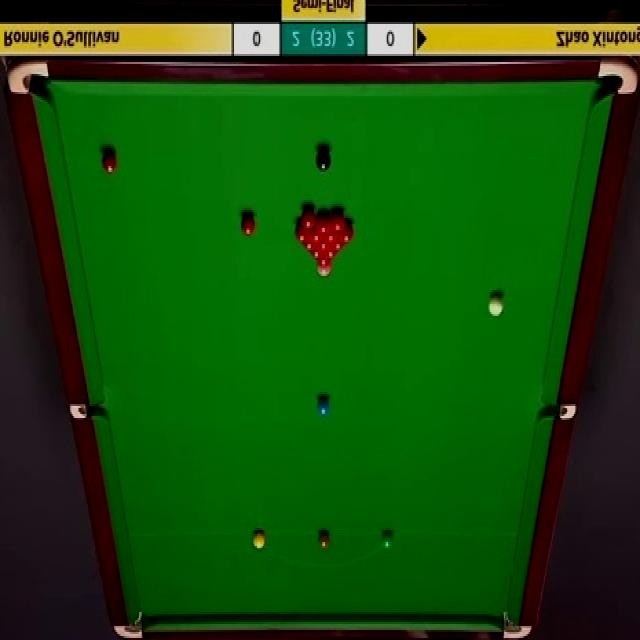black-ball: (315, 147, 331, 174)
blue-ball: (318, 394, 331, 416)
brown-ball: (319, 531, 331, 549)
green-ball: (382, 530, 393, 550)
pink-ball: (316, 264, 332, 281)
red-ball: (239, 210, 258, 236), (102, 148, 116, 176), (300, 205, 316, 228), (316, 211, 331, 235), (338, 223, 355, 243), (331, 209, 347, 230), (295, 222, 310, 243), (325, 224, 338, 242), (309, 228, 324, 243), (322, 248, 340, 258), (331, 240, 347, 251), (315, 258, 332, 268), (316, 240, 332, 250), (307, 249, 323, 258), (303, 239, 316, 250)
white-ball: (488, 294, 504, 318)
yellow-ball: (252, 530, 267, 551)
